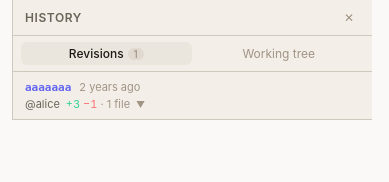
Test: RevisionBrowser › shows the working-tree diff on the Working tree tab
The image size is (389, 182).
Click the button "Working tree".
click(279, 54)  # box x1=194 y1=42 x2=364 y2=65
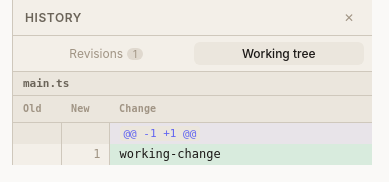
expect the text "working-change" is shown: met, box x1=120 y1=147 x2=221 y2=161
